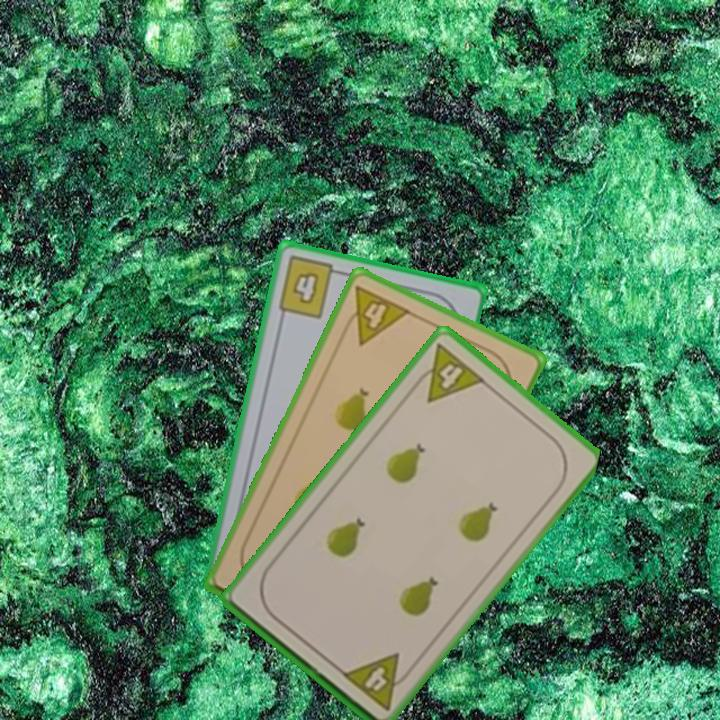4b: (274, 252, 347, 322)
4p: (407, 339, 488, 406), (336, 282, 414, 348), (338, 649, 416, 714)
